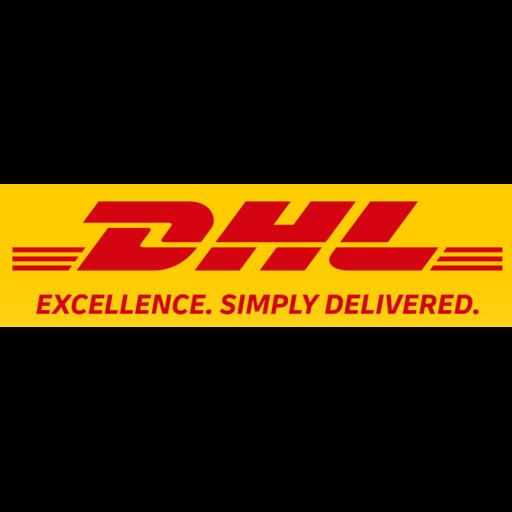DHL: (0, 184, 512, 327)
